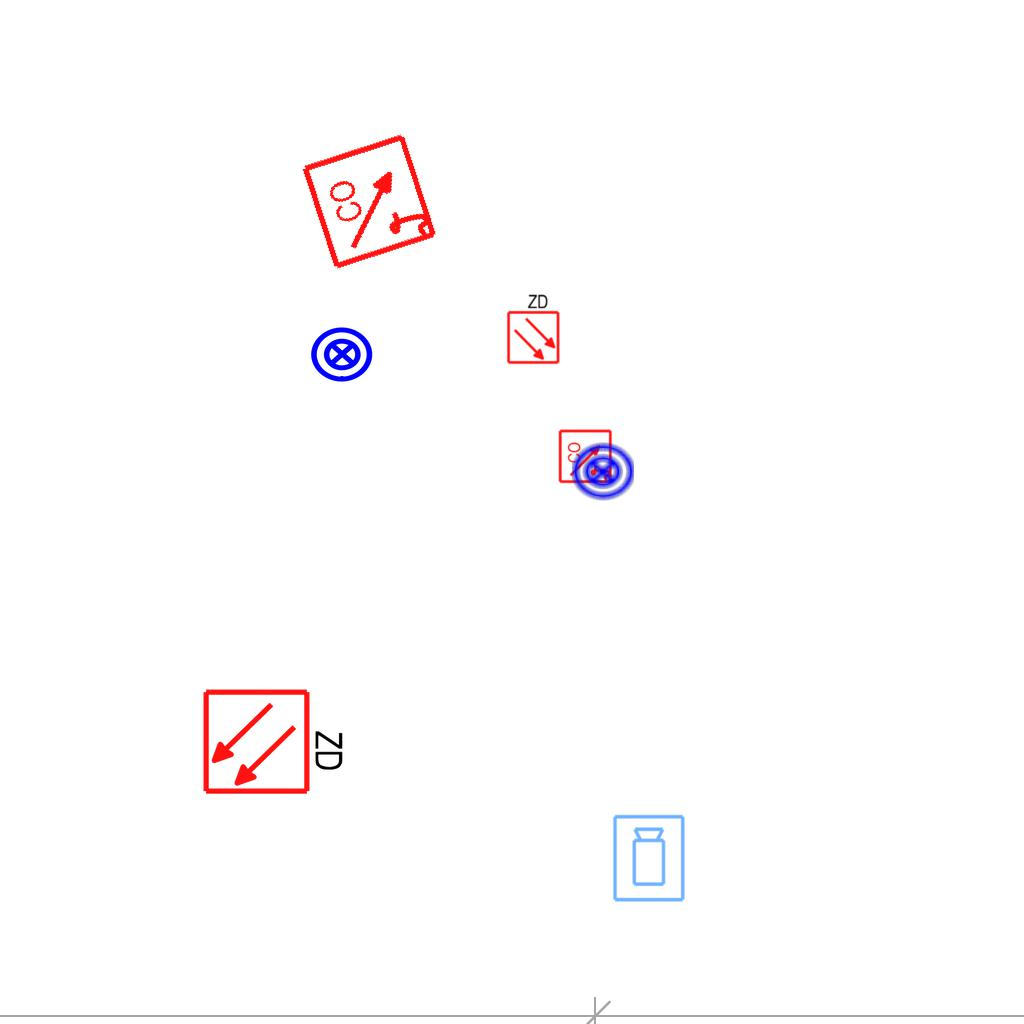KFO_Kamera_mit_Festobjektiv: (611, 813, 688, 904)
ROA_Rauchmelder_optisch_mit_Signalgeber_(Sockelsirene): (299, 129, 442, 272), (558, 428, 614, 484)
Taster_beleuchtet: (309, 321, 375, 387), (570, 439, 636, 505)
ZD_Melder_in_Zwischendecke_mit_Revisionsoeffnung_mind_40_x_40_cm: (201, 683, 350, 797), (504, 291, 561, 365)
